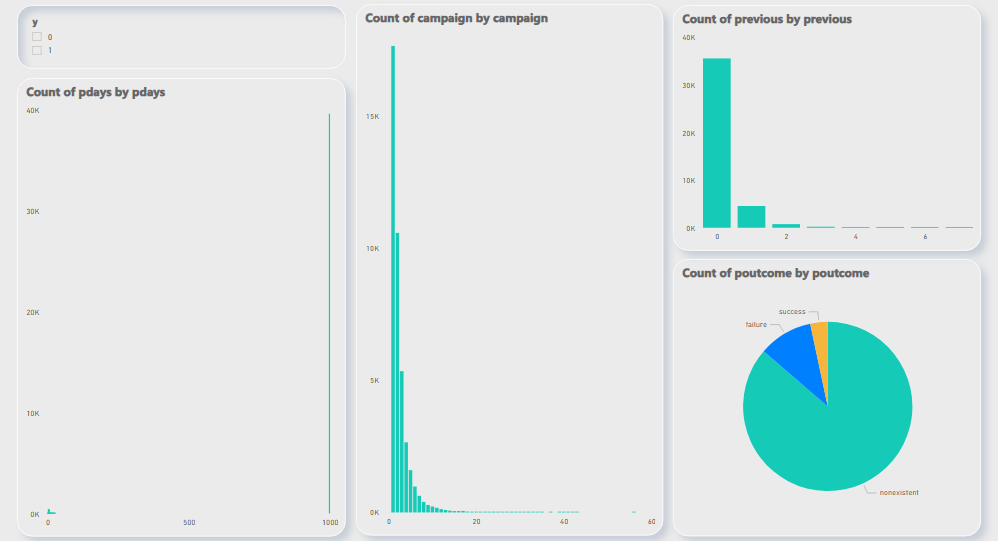

Layout of this report page (visuals, bound fields, positions):
{"tool":"powerbi","page":{"name":"Others","canvas":[1280,720],"ordinal":2},"visuals":[{"type":"clusteredColumnChart","fields":{"Category":["bank-addition-full-update.campaign"],"Y":["CountNonNull(bank-addition-full-update.campaign)"]},"box":[451.2,13.3,399.6,691.6],"z":0},{"type":"clusteredColumnChart","fields":{"Category":["bank-addition-full-update.pdays"],"Y":["CountNonNull(bank-addition-full-update.pdays)"]},"box":[10.3,109.1,427.6,597.2],"z":1000},{"type":"clusteredColumnChart","fields":{"Category":["bank-addition-full-update.previous"],"Y":["CountNonNull(bank-addition-full-update.previous)"]},"box":[864.1,14.7,401.1,320],"z":2000},{"type":"pieChart","fields":{"Category":["bank-addition-full-update.poutcome"],"Y":["CountNonNull(bank-addition-full-update.poutcome)"]},"box":[864.1,345.1,401.1,361.3],"z":3000},{"type":"slicer","fields":{"Values":["bank-addition-full-update.y"]},"box":[10.3,14.7,427.6,82.6],"z":4000}]}

Visuals, with their boxes on the page's 1280x720 design canvas (x1, y1, x2, y2). These are canvas units, not pixel positions in the 998x541 screenshot, which may show the page scaled, cropped or inside an application window:
clusteredColumnChart - bank-addition-full-update.campaign x CountNonNull(bank-addition-full-update.campaign): {"x1": 451, "y1": 13, "x2": 851, "y2": 705}
clusteredColumnChart - bank-addition-full-update.pdays x CountNonNull(bank-addition-full-update.pdays): {"x1": 10, "y1": 109, "x2": 438, "y2": 706}
clusteredColumnChart - bank-addition-full-update.previous x CountNonNull(bank-addition-full-update.previous): {"x1": 864, "y1": 15, "x2": 1265, "y2": 335}
pieChart - bank-addition-full-update.poutcome x CountNonNull(bank-addition-full-update.poutcome): {"x1": 864, "y1": 345, "x2": 1265, "y2": 706}
slicer - bank-addition-full-update.y: {"x1": 10, "y1": 15, "x2": 438, "y2": 97}
